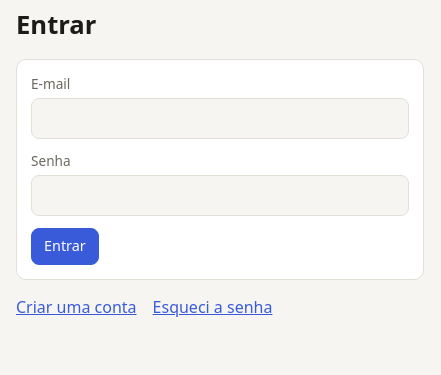
Test: /entrar › validação local e mensagem genérica da API
Click the button "Entrar" at point(65, 246), box [31,228,99,265]
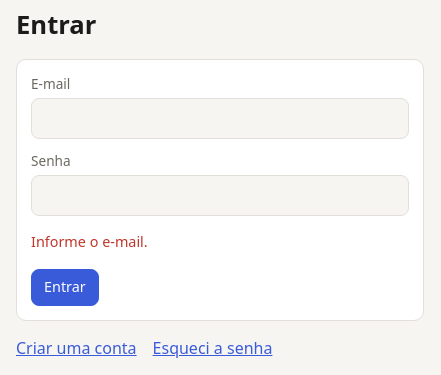
Expected: the message reads "Informe o e-mail.", [31,232,148,251]
Type "maria@exemplo.com" into the field labelled "E-mail" at point(220, 118), box [31,98,409,139]
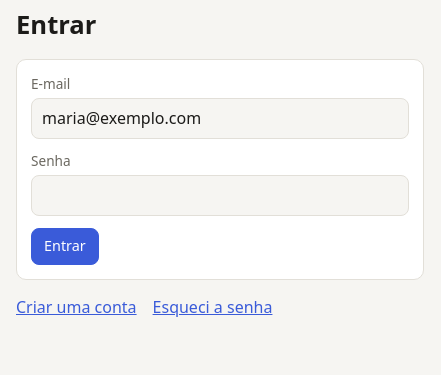
Type "errada123" into the password field labelled "Senha" at point(220, 195), box [31,175,409,216]
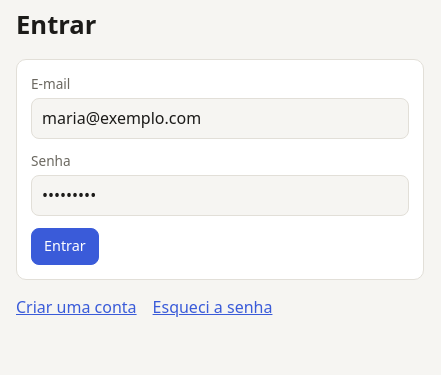
Click the button "Entrar" at point(65, 246), box [31,228,99,265]
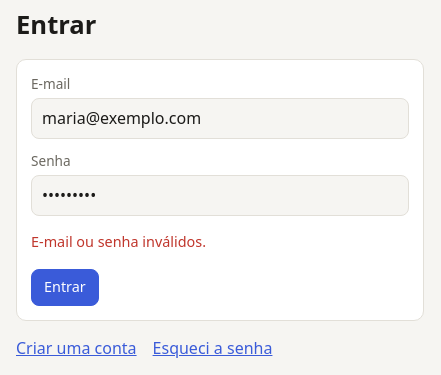
Expected: the message reads "E-mail ou senha inválidos.", [31,232,206,251]
